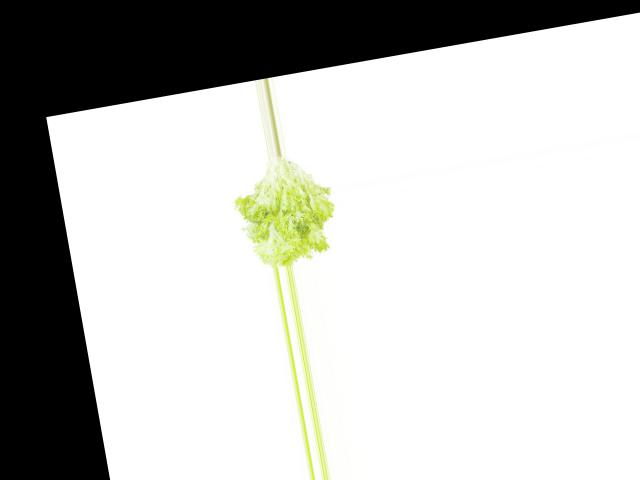lettuce: (226, 145, 347, 272)
